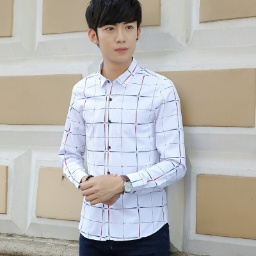face: (83, 1, 144, 66)
